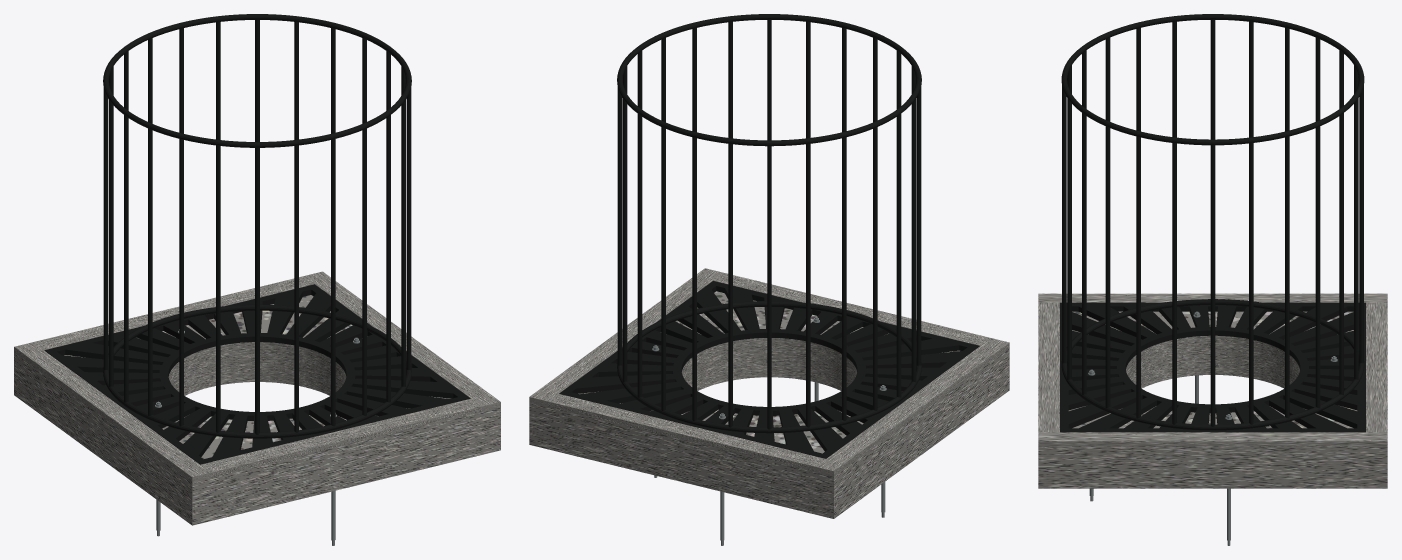
The model's file is granite-tree-guard.glb.
3 views of the same model, side by side, from view 1: azimuth 30°, elevation 25°; view 2: azimuth 150°, elevation 25°; view 3: azimuth 270°, elevation 25° (orthographic).
Visible parts, largest first — view 1: SF07_GRANITE_SURROUND, SF07_TREE_GRATE, SF07_CAGE_TOP_RING, SF07_CAGE_BOTTOM_RING, SF07_CAGE_BAR_05, SF07_CAGE_BAR_17, SF07_CAGE_BAR_01, SF07_CAGE_BAR_21, SF07_CAGE_BAR_22, SF07_CAGE_BAR_24, SF07_CAGE_BAR_23, SF07_CAGE_BAR_02 (+8 smaller); view 2: SF07_GRANITE_SURROUND, SF07_TREE_GRATE, SF07_CAGE_TOP_RING, SF07_CAGE_BOTTOM_RING, SF07_CAGE_BAR_11, SF07_CAGE_BAR_19, SF07_CAGE_BAR_10, SF07_CAGE_BAR_20, SF07_CAGE_BAR_09, SF07_CAGE_BAR_21, SF07_CAGE_BAR_14, SF07_CAGE_BAR_16 (+8 smaller); view 3: SF07_GRANITE_SURROUND, SF07_TREE_GRATE, SF07_CAGE_TOP_RING, SF07_CAGE_BOTTOM_RING, SF07_CAGE_BAR_04, SF07_CAGE_BAR_07, SF07_CAGE_BAR_10, SF07_CAGE_BAR_05, SF07_CAGE_BAR_09, SF07_CAGE_BAR_06, SF07_CAGE_BAR_08, SF07_CAGE_BAR_03 (+12 smaller).
Boxes of the visible parts, x1,y1,x2,y2 form: SF07_GRANITE_SURROUND: (14,271,500,525); SF07_TREE_GRATE: (44,284,470,464); SF07_CAGE_TOP_RING: (103,14,411,147); SF07_CAGE_BOTTOM_RING: (103,304,411,438); SF07_CAGE_BAR_05: (406,87,411,370); SF07_CAGE_BAR_17: (103,87,108,370); SF07_CAGE_BAR_01: (331,138,335,426); SF07_CAGE_BAR_21: (179,138,183,426); SF07_CAGE_BAR_22: (216,145,220,432); SF07_CAGE_BAR_24: (294,145,298,432); SF07_CAGE_BAR_23: (255,147,259,434); SF07_CAGE_BAR_02: (362,128,366,415); SF07_GRANITE_SURROUND: (529,268,1009,518); SF07_TREE_GRATE: (559,281,979,458); SF07_CAGE_TOP_RING: (617,14,921,146); SF07_CAGE_BOTTOM_RING: (617,301,921,433); SF07_CAGE_BAR_11: (637,114,642,397); SF07_CAGE_BAR_19: (896,114,901,397); SF07_CAGE_BAR_10: (622,98,627,382); SF07_CAGE_BAR_20: (911,98,916,382); SF07_CAGE_BAR_09: (617,86,622,365); SF07_CAGE_BAR_21: (916,86,921,365); SF07_CAGE_BAR_14: (728,143,732,427); SF07_CAGE_BAR_16: (806,143,810,427); SF07_GRANITE_SURROUND: (1038,293,1387,488); SF07_TREE_GRATE: (1060,302,1365,432); SF07_CAGE_TOP_RING: (1061,14,1364,145); SF07_CAGE_BOTTOM_RING: (1061,299,1364,430); SF07_CAGE_BAR_04: (1105,126,1110,408); SF07_CAGE_BAR_07: (1210,145,1215,426); SF07_CAGE_BAR_10: (1315,126,1320,408); SF07_CAGE_BAR_05: (1136,136,1140,418); SF07_CAGE_BAR_09: (1285,136,1289,418); SF07_CAGE_BAR_06: (1172,142,1176,424); SF07_CAGE_BAR_08: (1249,142,1253,424); SF07_CAGE_BAR_03: (1082,113,1086,395).
Size of the model in its own units: 1.2 by 1.58 by 1.2.
3 materials, 1 textured.
